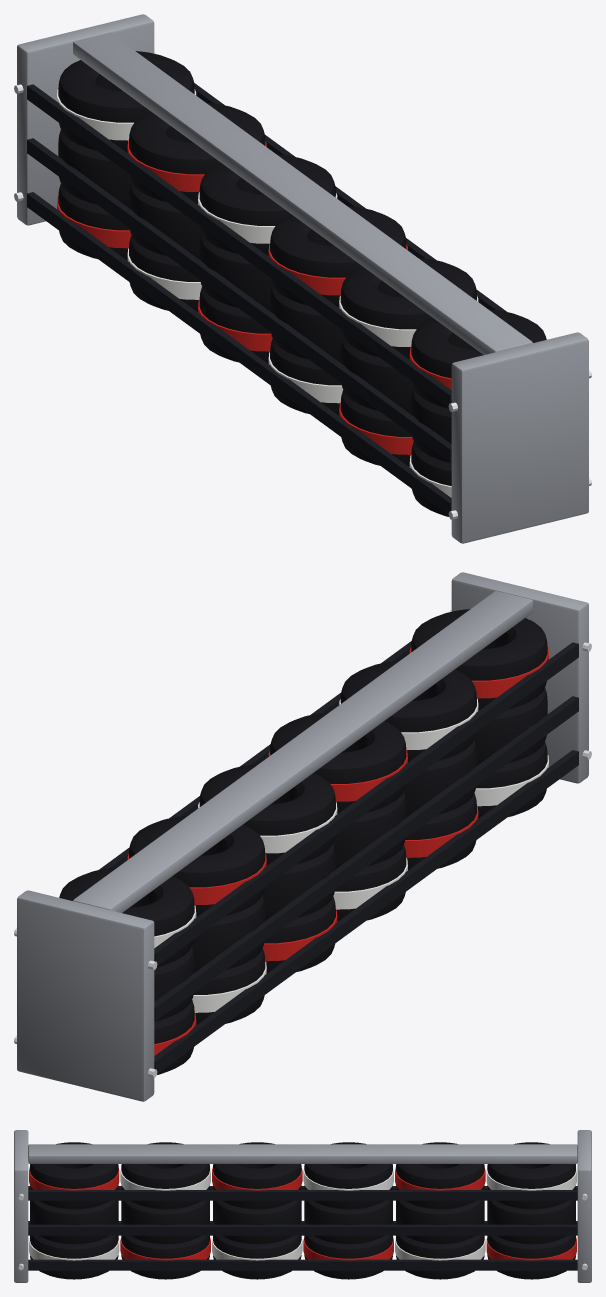
File: A_TireWall.fbx
The picture shows the model from 3 angles, top to bottom: view 1: azimuth 30°, elevation 25°; view 2: azimuth 150°, elevation 25°; view 3: azimuth 270°, elevation 25°; orthographic projection. The views are drawn at different scales.
Parts seen in each view (by area): view 1: Metal.004, Rubber.002, Dark.004, White, Accent.004; view 2: Metal.004, Rubber.002, Dark.004, Accent.004, White; view 3: Rubber.002, Dark.004, Metal.004, Accent.004, White.
Part boxes in pixels (x1,y1,x2,y2): Metal.004: [17, 14, 588, 543]; Rubber.002: [58, 51, 546, 516]; Dark.004: [27, 83, 506, 515]; White: [57, 89, 478, 497]; Accent.004: [57, 140, 451, 454]; Metal.004: [17, 572, 588, 1101]; Rubber.002: [59, 609, 547, 1074]; Dark.004: [99, 641, 578, 1073]; Accent.004: [127, 647, 548, 1055]; White: [154, 698, 548, 1012]; Rubber.002: [30, 1142, 575, 1279]; Dark.004: [28, 1186, 577, 1270]; Metal.004: [14, 1130, 591, 1282]; Accent.004: [29, 1167, 576, 1260]; White: [29, 1167, 576, 1260].
Bounding box in the file's own units: 2.16 × 2.6 × 12.
